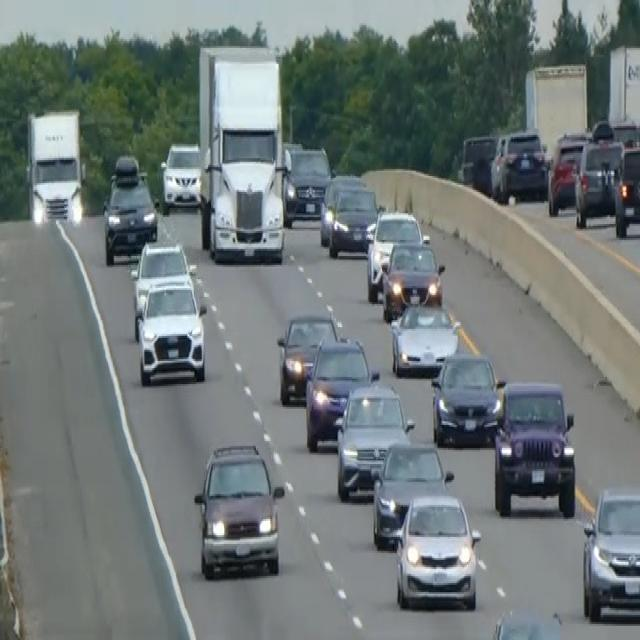car: (193, 439, 284, 580), (493, 377, 576, 517), (394, 489, 481, 610), (333, 380, 414, 500), (371, 439, 453, 548), (304, 334, 378, 450), (581, 484, 639, 622), (136, 276, 207, 386), (430, 348, 505, 446), (101, 153, 158, 265), (130, 238, 192, 338), (276, 310, 340, 404), (389, 297, 460, 377), (380, 236, 445, 320), (365, 208, 423, 300), (573, 135, 623, 228), (491, 128, 548, 204), (282, 144, 331, 224), (328, 183, 380, 258), (546, 130, 590, 215), (318, 170, 364, 243), (160, 138, 201, 212), (484, 604, 565, 638), (613, 142, 639, 238), (458, 132, 498, 194), (112, 151, 139, 185)
lorry: (196, 41, 289, 263)
